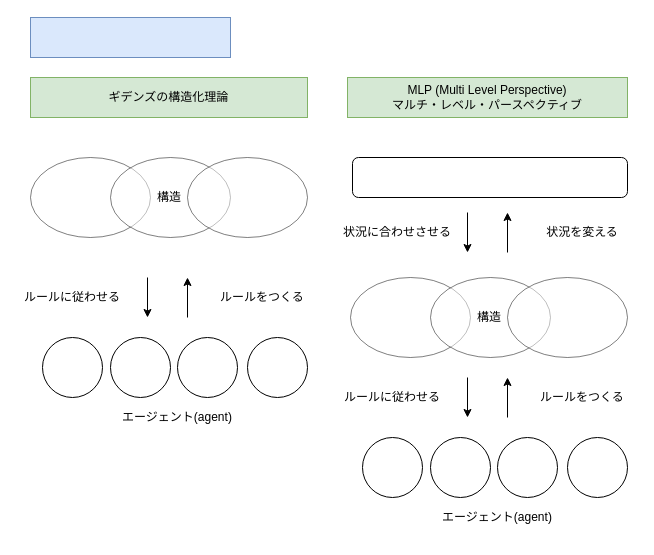
Image size: 654x555. Some labels were removed from this diagram. The shapes that lost their labels are listed below. From the top down, each one's centre as x and y in pixels, then its label:
(x=130, y=37): 潮流と旗 ～トラジション～
(x=490, y=177): ランドスケープ
